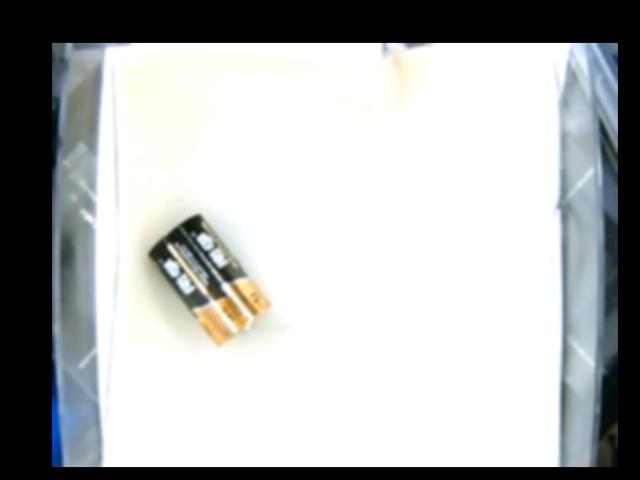Battery: (149, 212, 266, 350)
